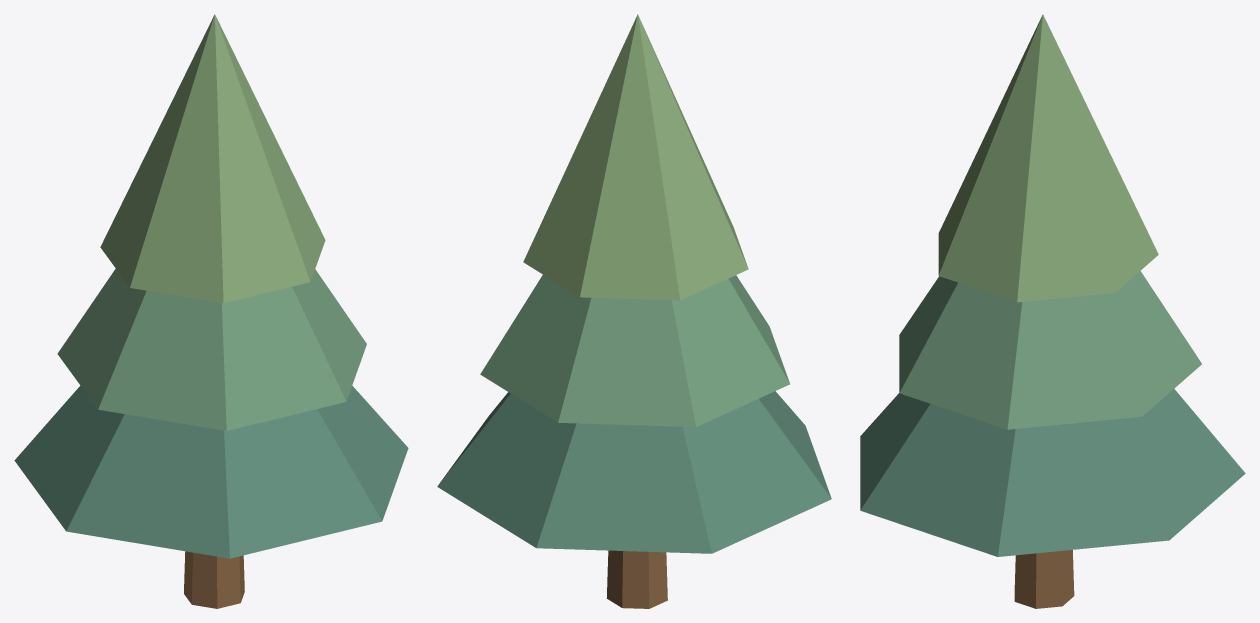
Rendered from tree_pine_a.glb.
3 views of the same model, side by side, from view 1: azimuth 30°, elevation 25°; view 2: azimuth 150°, elevation 25°; view 3: azimuth 270°, elevation 25° (orthographic).
Parts seen in each view (by area): view 1: canopy_0, canopy_2, canopy_1, trunk; view 2: canopy_0, canopy_2, canopy_1, trunk; view 3: canopy_0, canopy_2, canopy_1, trunk.
Boxes of the visible parts, x1,y1,x2,y2 form: canopy_0: [14, 385, 408, 558]; canopy_2: [100, 14, 325, 303]; canopy_1: [57, 268, 366, 430]; trunk: [184, 551, 244, 608]; canopy_0: [437, 391, 831, 553]; canopy_2: [523, 14, 748, 300]; canopy_1: [480, 275, 789, 427]; trunk: [606, 550, 667, 608]; canopy_0: [860, 389, 1245, 556]; canopy_2: [938, 14, 1158, 302]; canopy_1: [899, 271, 1201, 429]; trunk: [1014, 550, 1074, 608].
Bounding box in the file's own units: 1.64 × 2.66 × 1.6.
